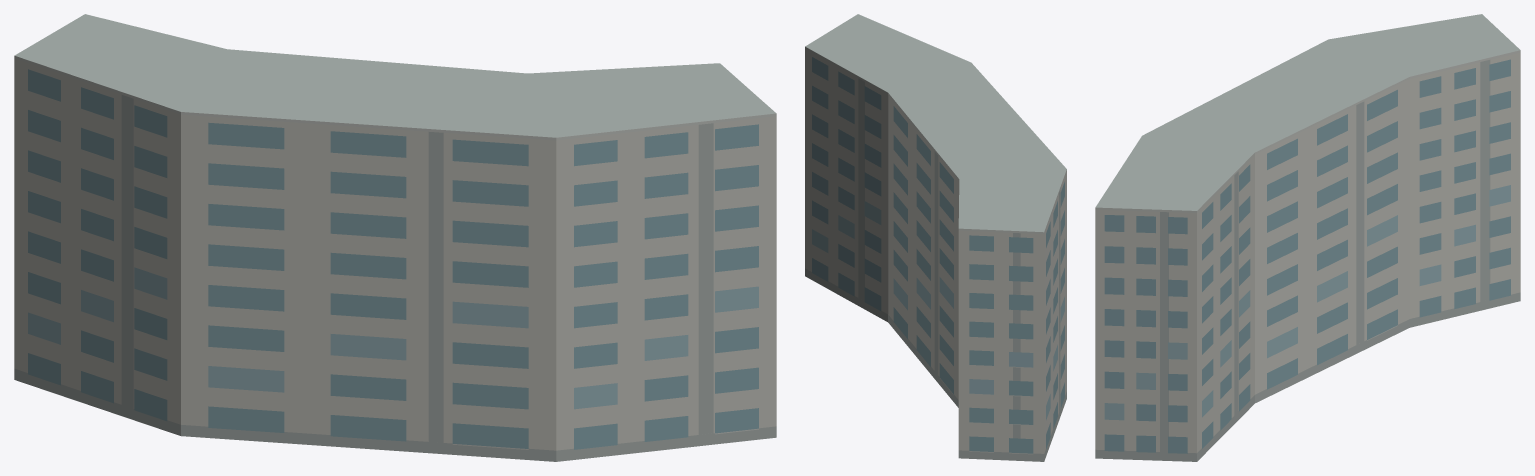
File: residential-c0b9b8b6-fca5-4bad-bbe2-2385fae0de91.glb
3 renders of one model, left to right at view 1: azimuth 30°, elevation 25°; view 2: azimuth 150°, elevation 25°; view 3: azimuth 270°, elevation 25°, orthographic. The views are drawn at different scales.
Parts seen in each view (by area): view 1: residential-c0b9b8b6-fca5-4bad-bbe2-2385fae0de91.tmp; view 2: residential-c0b9b8b6-fca5-4bad-bbe2-2385fae0de91.tmp; view 3: residential-c0b9b8b6-fca5-4bad-bbe2-2385fae0de91.tmp.
Part boxes in pixels (<box>): residential-c0b9b8b6-fca5-4bad-bbe2-2385fae0de91.tmp: <box>14,14,776,461</box>; residential-c0b9b8b6-fca5-4bad-bbe2-2385fae0de91.tmp: <box>805,14,1066,461</box>; residential-c0b9b8b6-fca5-4bad-bbe2-2385fae0de91.tmp: <box>1095,14,1520,461</box>.
Bounding box in the file's own units: 47.14 × 28 × 43.03.
